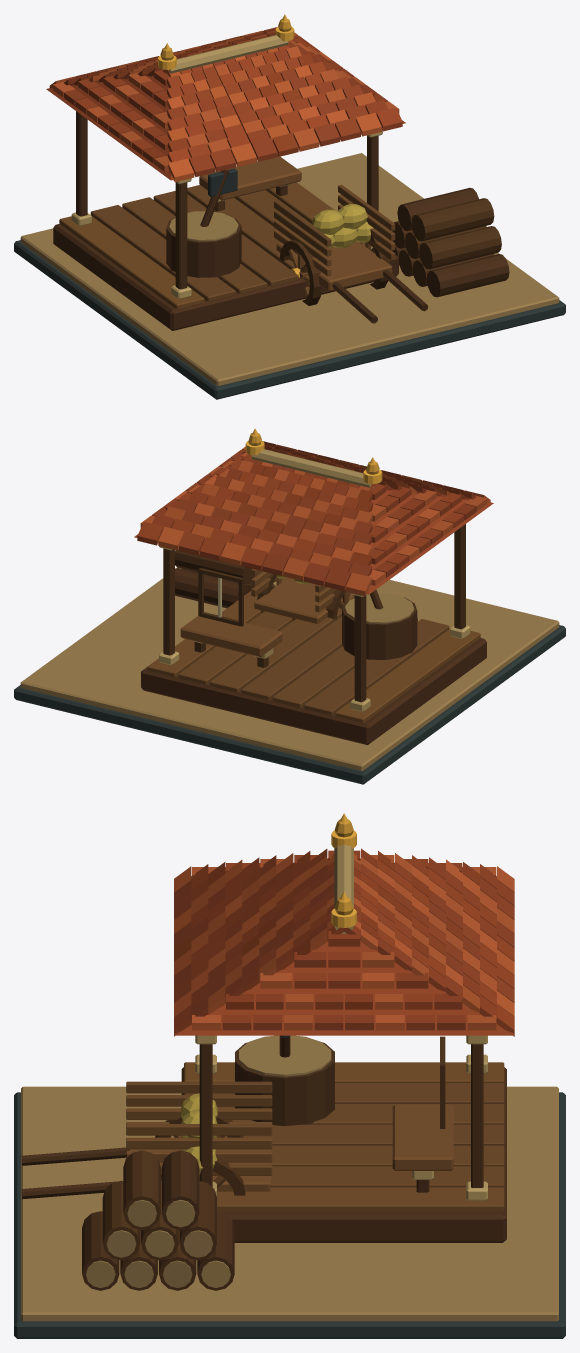
The model's file is lumber.glb.
The picture shows the model from 3 angles, top to bottom: view 1: azimuth 30°, elevation 25°; view 2: azimuth 150°, elevation 25°; view 3: azimuth 270°, elevation 25°; orthographic projection. The views are drawn at different scales.
Parts seen in each view (by area): view 1: lumber_structure, lumber_brass; view 2: lumber_structure, lumber_brass; view 3: lumber_structure, lumber_brass.
Boxes of the visible parts, x1,y1,x2,y2 form: lumber_structure: (14,19,565,399); lumber_brass: (158,14,300,277); lumber_structure: (14,433,565,784); lumber_brass: (245,428,382,483); lumber_structure: (14,819,565,1338); lumber_brass: (331,813,356,927).
Size of the model in its own units: 5.6 by 3.83 by 5.6.
